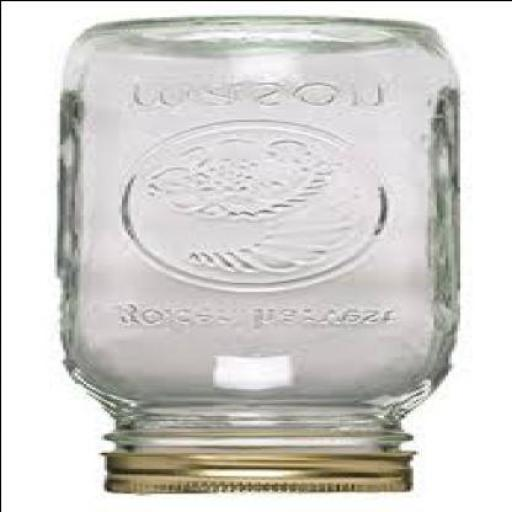glass: (56, 20, 456, 455)
metal: (100, 452, 412, 496)
